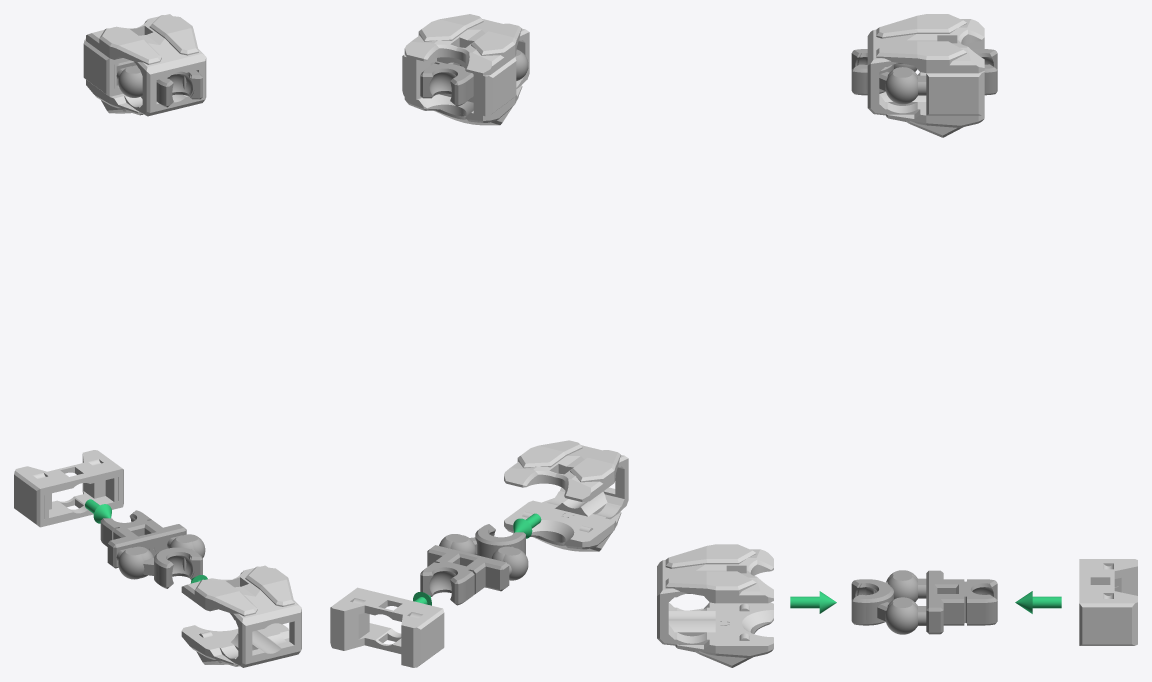
File: chest.glb
3 renders of one model, left to right at view 1: azimuth 30°, elevation 25°; view 2: azimuth 150°, elevation 25°; view 3: azimuth 270°, elevation 25°, orthographic. The views are drawn at different scales.
Parts seen in each view (by area): view 1: Body17, Body17.003, Body3.003, Body17.002, Body1.003, Body3.002, Body1.002, Body17.001, Body1.001, Body3, Body1; view 2: Body17.002, Body17.003, Body17, Body17.001, Body1.003, Body3.002, Body3.003, Body1.002, Body3, Body1.001, Body3.001, Body1; view 3: Body17.003, Body17.002, Body17, Body1.003, Body17.001, Body1.002, Body3.002, Body3, Body3.003, Body1.001, Body1.
Boxes of the visible parts, x1,y1,x2,y2 form: Body17: (86, 14, 206, 116); Body17.003: (187, 571, 301, 667); Body3.003: (20, 451, 118, 526); Body17.002: (181, 565, 294, 665); Body1.003: (100, 510, 202, 588); Body3.002: (14, 450, 123, 527); Body1.002: (107, 511, 205, 583); Body17.001: (97, 15, 206, 115); Body1.001: (120, 60, 202, 107); Body3: (83, 38, 124, 96); Body1: (116, 60, 198, 101); Body17.002: (504, 445, 628, 549); Body17.003: (511, 440, 628, 551); Body17: (404, 14, 529, 122); Body17.001: (409, 19, 525, 125); Body1.003: (420, 524, 525, 605); Body3.002: (330, 587, 444, 667); Body3.003: (336, 597, 430, 666); Body1.002: (425, 525, 528, 591); Body3: (402, 54, 516, 116); Body1.001: (420, 61, 473, 106); Body3.001: (409, 57, 480, 114); Body1: (424, 49, 528, 90); Body17.003: (657, 546, 773, 667); Body17.002: (660, 544, 773, 658); Body17: (867, 14, 984, 127); Body1.003: (851, 572, 997, 625); Body17.001: (867, 16, 984, 137); Body1.002: (857, 570, 993, 634); Body3.002: (1079, 559, 1137, 645); Body3: (926, 71, 984, 115); Body3.003: (1079, 561, 1137, 600); Body1.001: (851, 49, 997, 95); Body1: (857, 49, 991, 104).
Bounding box in the file's own units: 19 × 117 × 82.2.
